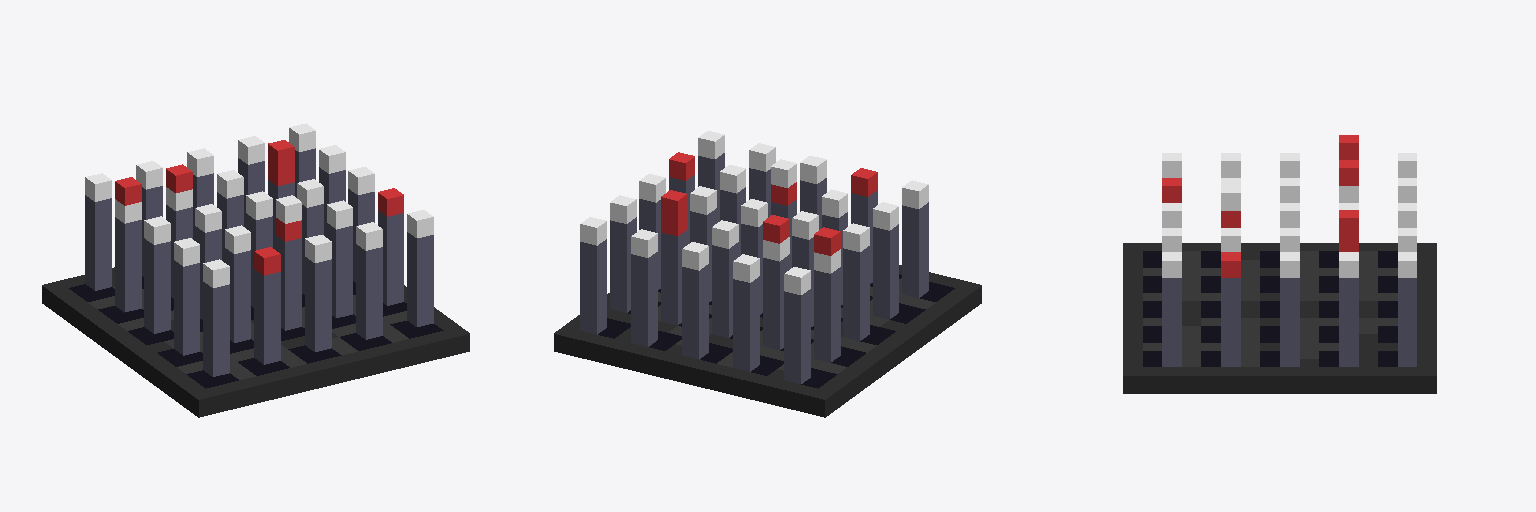
3 renders of one model, left to right at view 1: azimuth 30°, elevation 25°; view 2: azimuth 150°, elevation 25°; view 3: azimuth 270°, elevation 25°, orthographic.
Visible parts, largest first — view 1: object 1; view 2: object 1; view 3: object 1.
Part boxes in pixels (x1,y1,x2,y2): object 1: (42, 123, 469, 417); object 1: (554, 131, 981, 417); object 1: (1123, 135, 1436, 393).
Size of the model in its own units: 1.6 by 0.8 by 1.6.
Materials: 1 (1 with a texture image).